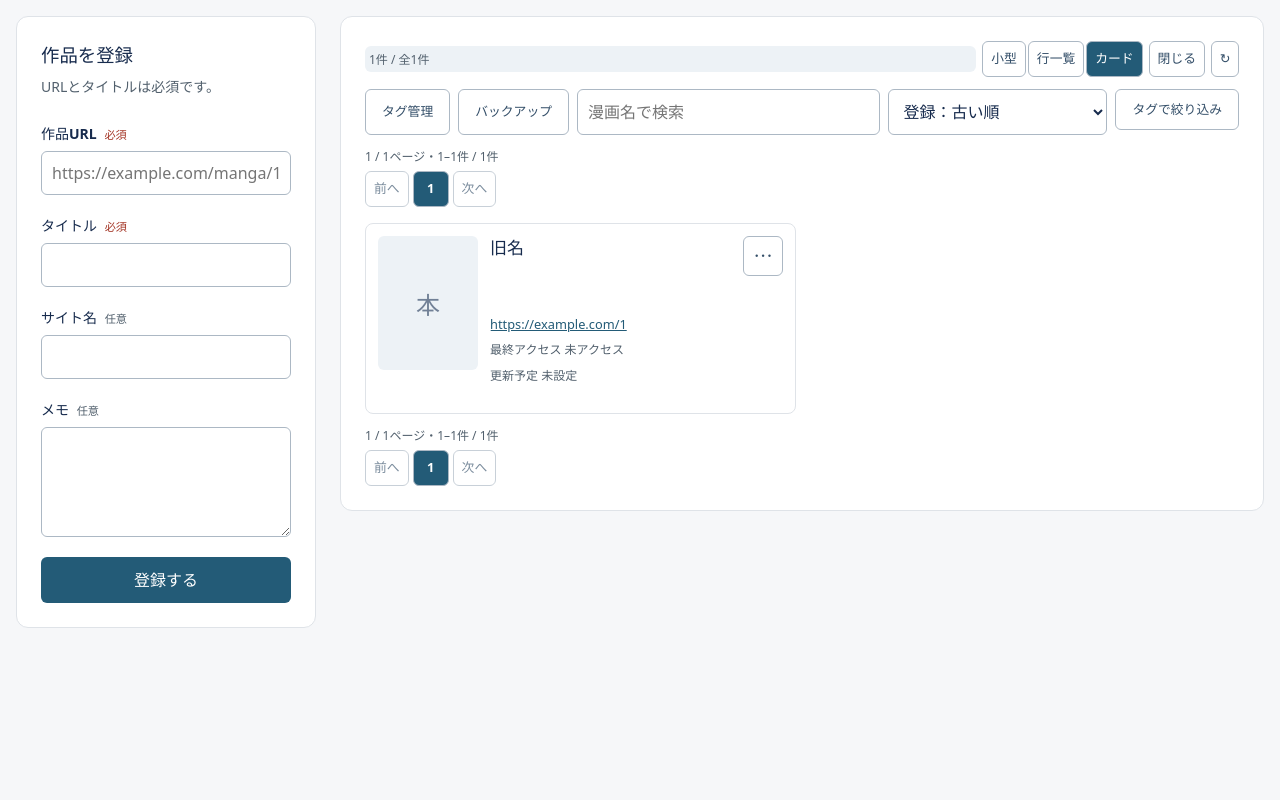
Test: アクセス保存後の再取得失敗でも成功通知を残し、前回日時を勝手に更新しない
Expected: the heading "旧名" is shown, [490,236,524,259]
What coordinates should you click on to do the following:
click the button with aria-label "旧名のURLを開く"
I would click on:
 (610, 324)
Its box is [490,315,731,334].
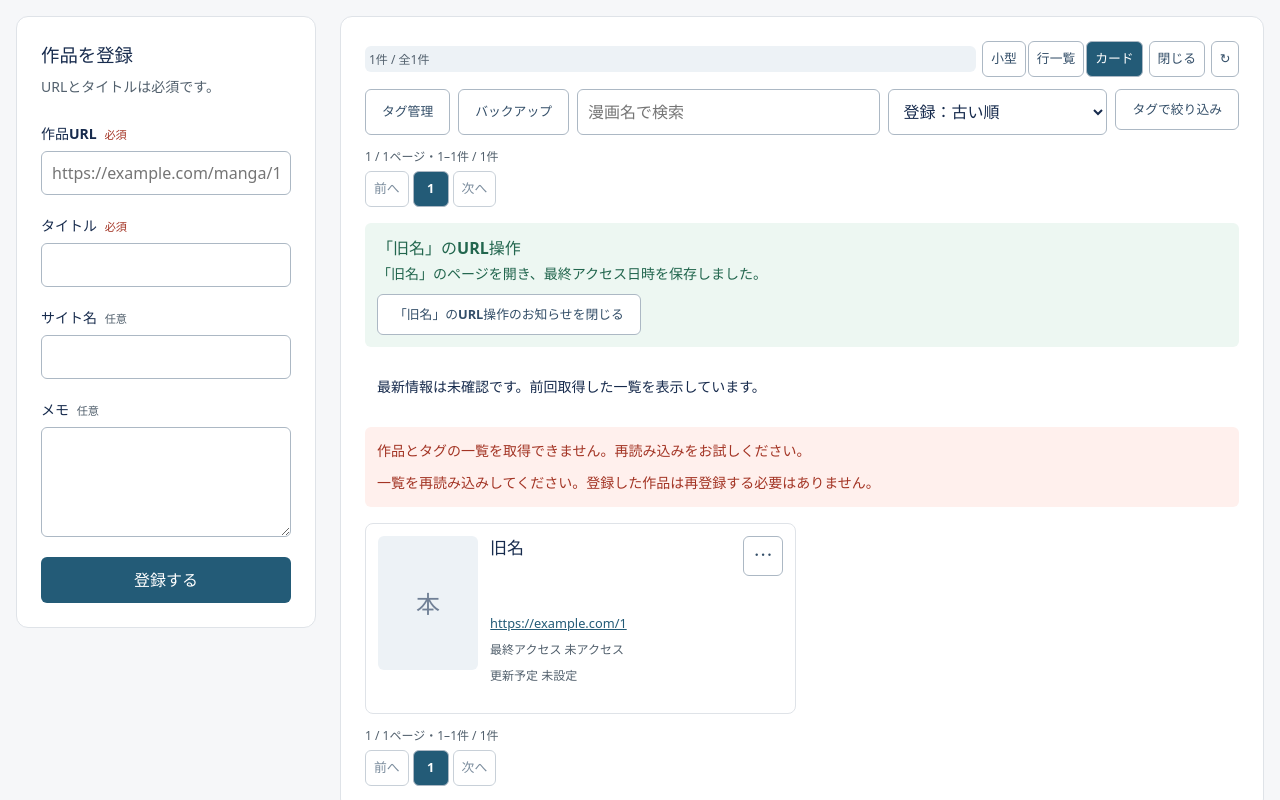
Expected: the text "最終アクセス 未アクセス" is shown, [490,640,624,658]
Now the text "「旧名」のページを開き、最終アクセス日時を保存しました。" is shown, box [377,264,767,283]
Now the message "作品とタグの一覧を取得できません。再読み込みをお試しください。 一覧を再読み込みしてください。登録した作品は再登録する必要はありません。" is shown, box [365,427,1239,507]
